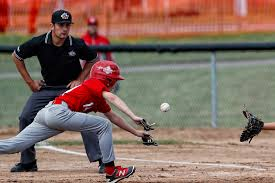baseball: (159, 102, 172, 114)
baseball player: (1, 60, 158, 181)
